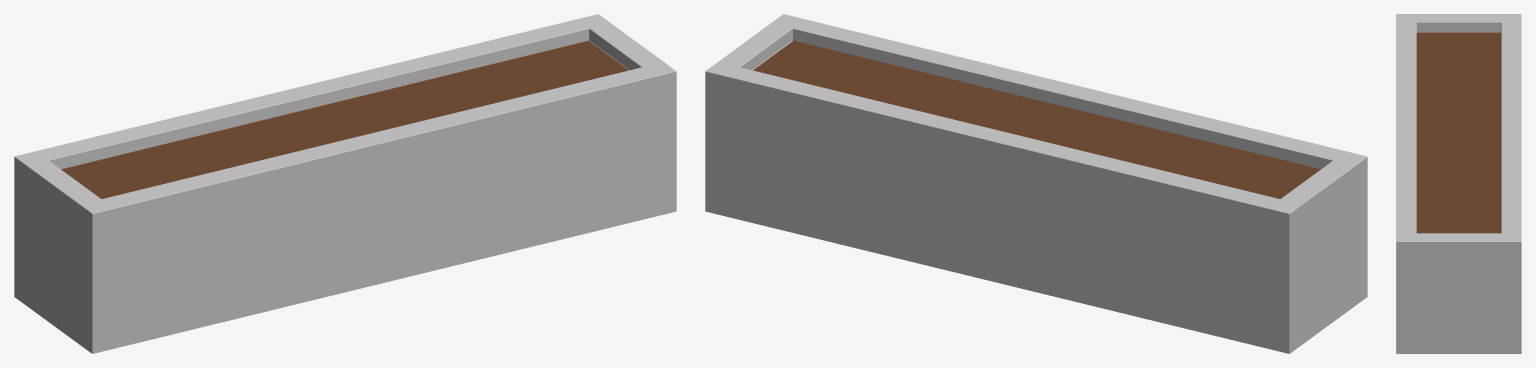
The model's file is Maceta_UV.fbx.
3 renders of one model, left to right at view 1: azimuth 30°, elevation 25°; view 2: azimuth 150°, elevation 25°; view 3: azimuth 270°, elevation 25°, orthographic. The views are drawn at different scales.
Parts seen in each view (by area): view 1: Cube.083; view 2: Cube.083; view 3: Cube.083.
Part boxes in pixels (left/top/right/bottom): Cube.083: left=14, top=14, right=676, bottom=353; Cube.083: left=705, top=14, right=1367, bottom=353; Cube.083: left=1396, top=14, right=1521, bottom=353.
Bounding box in the file's own units: 486 × 112 × 113.
